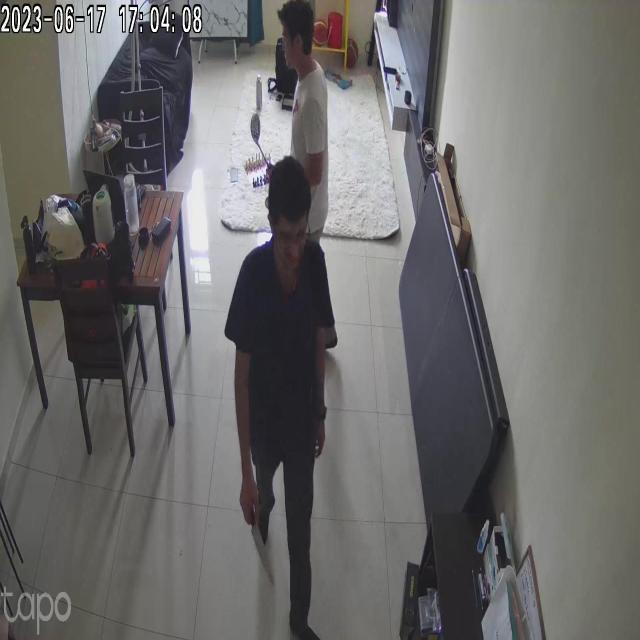Knife: (240, 517, 289, 594)
